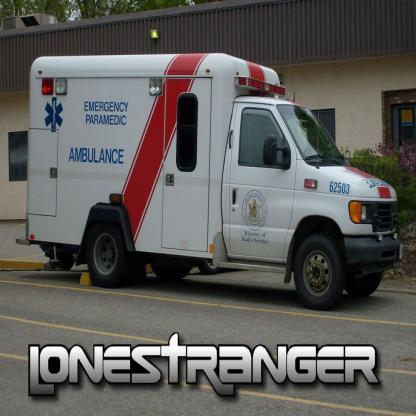Ambulance - v1 Ambulance last generate: (15, 58, 404, 312)
